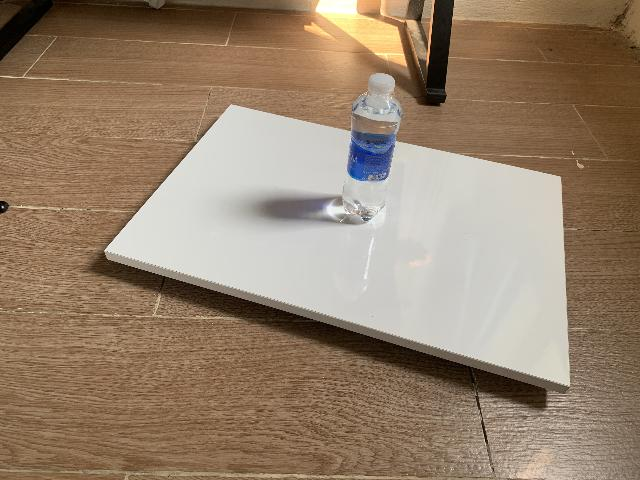aquafina: (342, 73, 403, 222)
